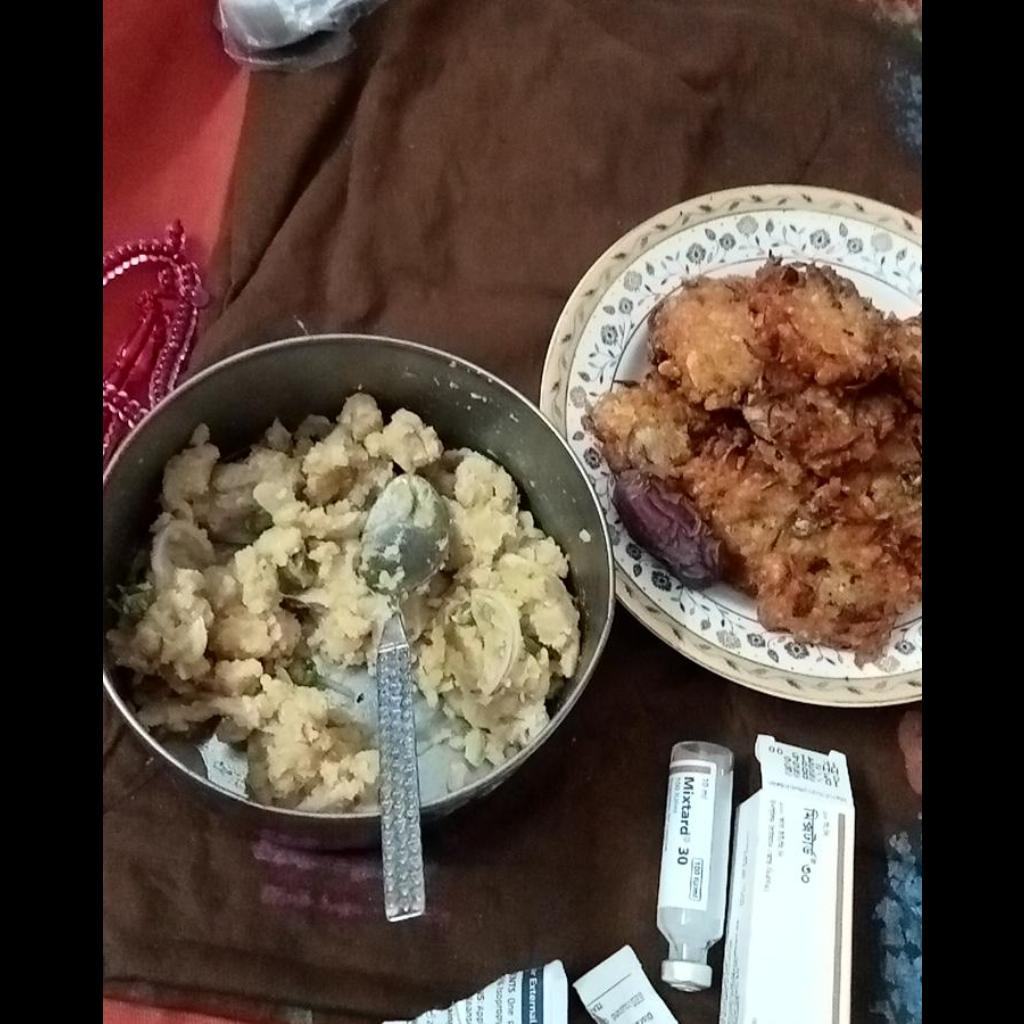daal: (108, 393, 587, 815)
dates: (612, 474, 720, 583)
peyaju: (580, 261, 920, 667)
